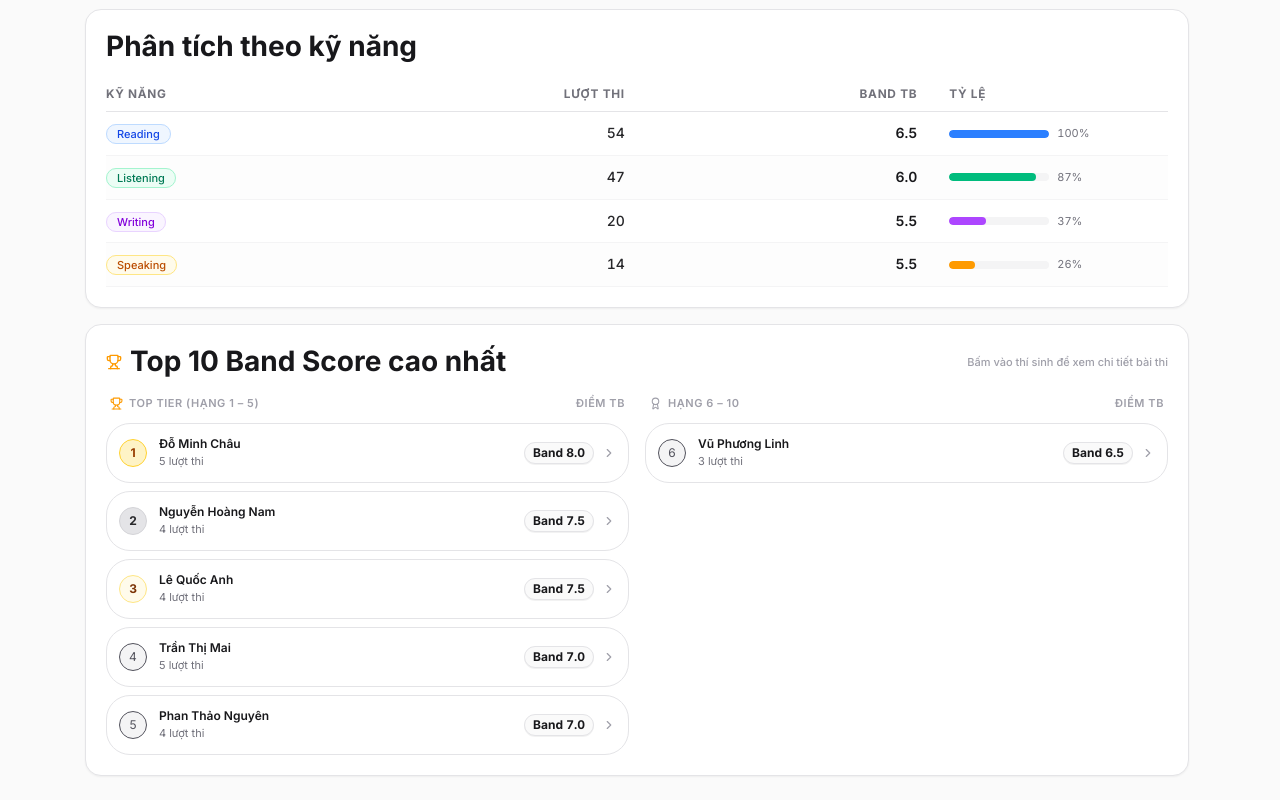
Admin Analytics Component › renders Top 10 in split columns with rank badges and allows clicking to open StudentDetailModal
(page scrolled)
Expected: the text "Top Tier (Hạng 1 – 5)" is shown, [129,394,259,413]
Expected: the text "Hạng 6 – 10" is shown, [668,394,740,413]
// Click on Rank 1 student to open modal
Click the text "Đỗ Minh Châu": [200, 444] box [159,436,241,452]
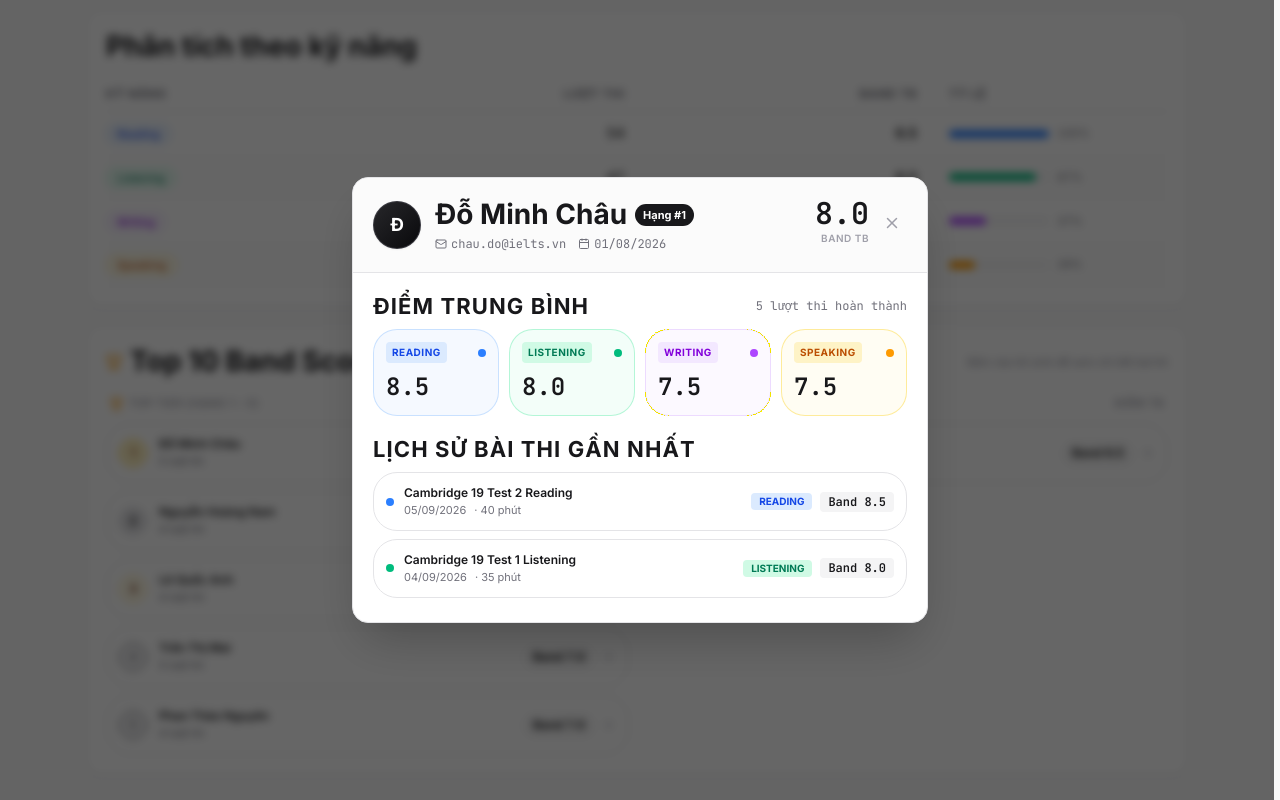
Result: the dialog is shown at [352,177,928,623]
Result: the heading "Điểm trung bình" is shown at [373,293,589,319]
Result: the text "Cambridge 19 Test 2 Reading" is shown at [404,485,573,501]
// Close modal
Click the button named "Đóng": [892, 223] box [877,208,907,238]
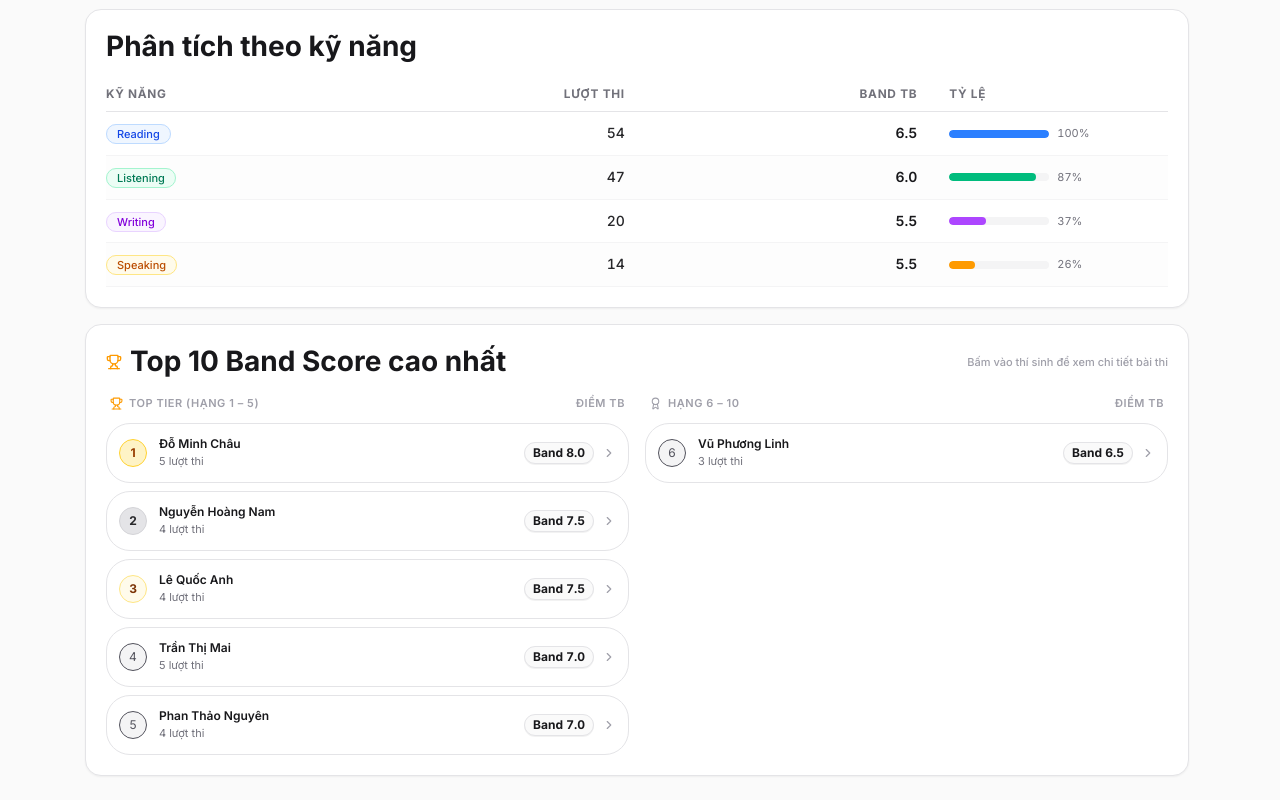
Result: the dialog is gone
